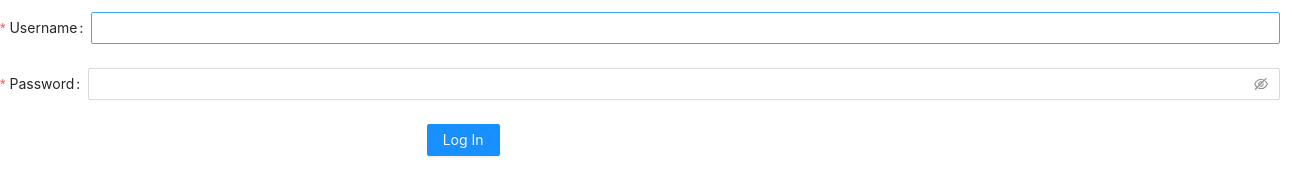
Scenario: <LoginForm /> › should print error when username is empty
This screenshot has width=1292, height=175.
Click the button "Log In" at (463, 140), box [427,124,500,156]
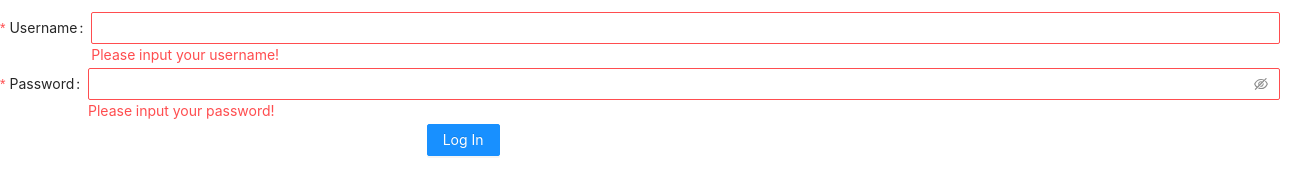
Now the element with test id "username" shows "Please input your username!", box [91,46,279,63]
